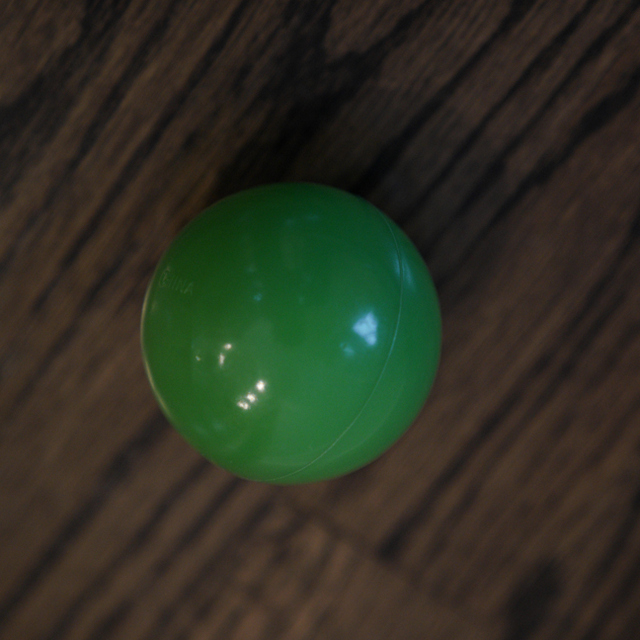Ball: (139, 187, 441, 483)
